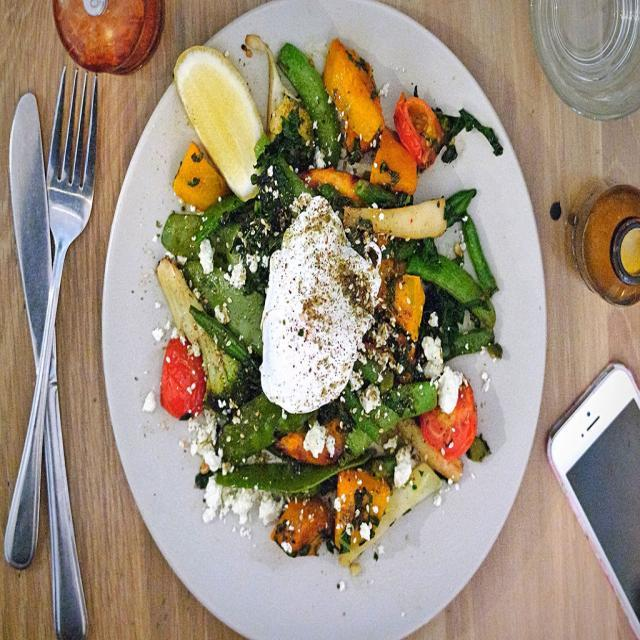Salad: (139, 32, 503, 587)
